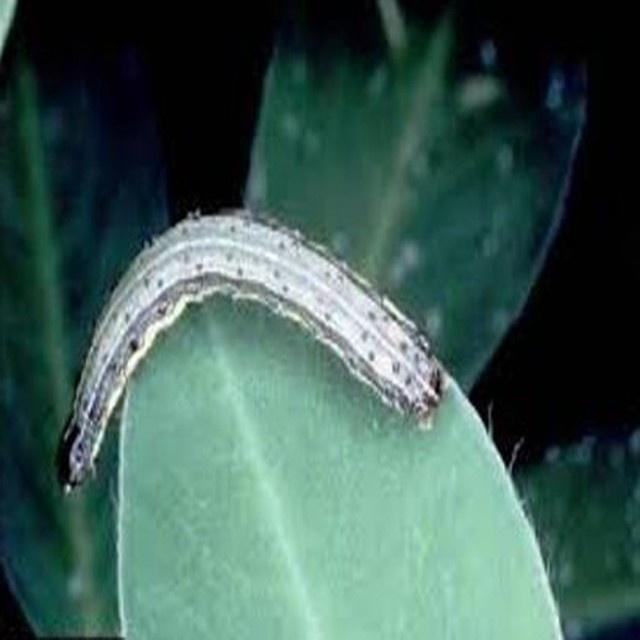gusano_cogollero: (52, 201, 450, 495)
